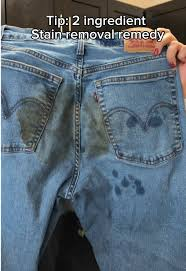earth: (32, 93, 105, 156), (17, 110, 37, 144)
